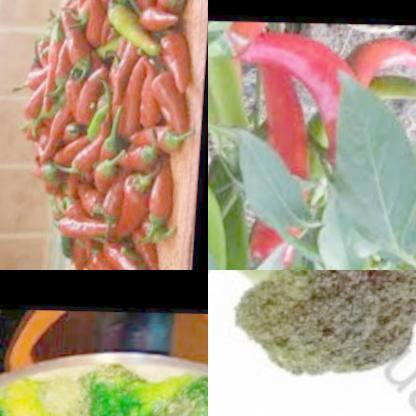broccoli: (208, 270, 416, 387), (0, 380, 208, 416)
hot pepper: (1, 0, 205, 270), (223, 23, 384, 182), (247, 56, 326, 270), (208, 133, 272, 270), (208, 22, 259, 161), (332, 33, 416, 116), (208, 152, 242, 270), (341, 70, 416, 121), (208, 23, 227, 186)
